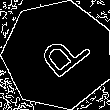P_SW: (26, 25, 90, 85)
